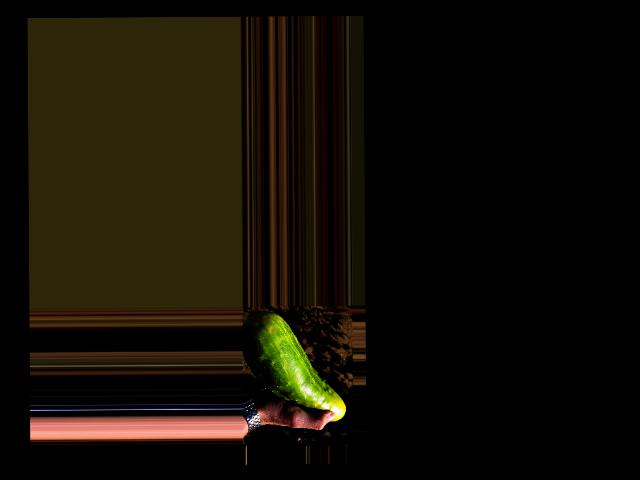cucumber: (241, 309, 345, 422)
